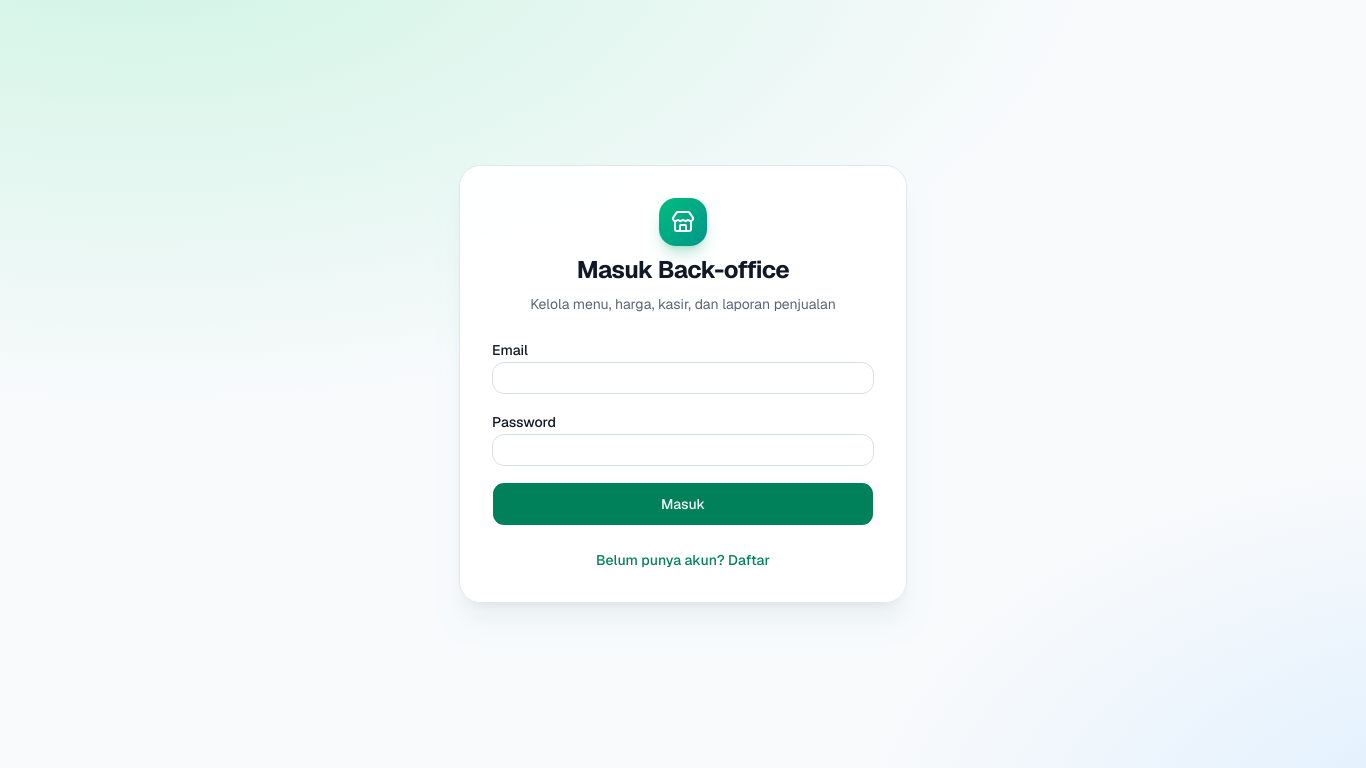
LoginScreen › explains wrong credentials
In the field labelled "Email": [683, 378] box [492,362,874,394], type "budi@maharasa.id"
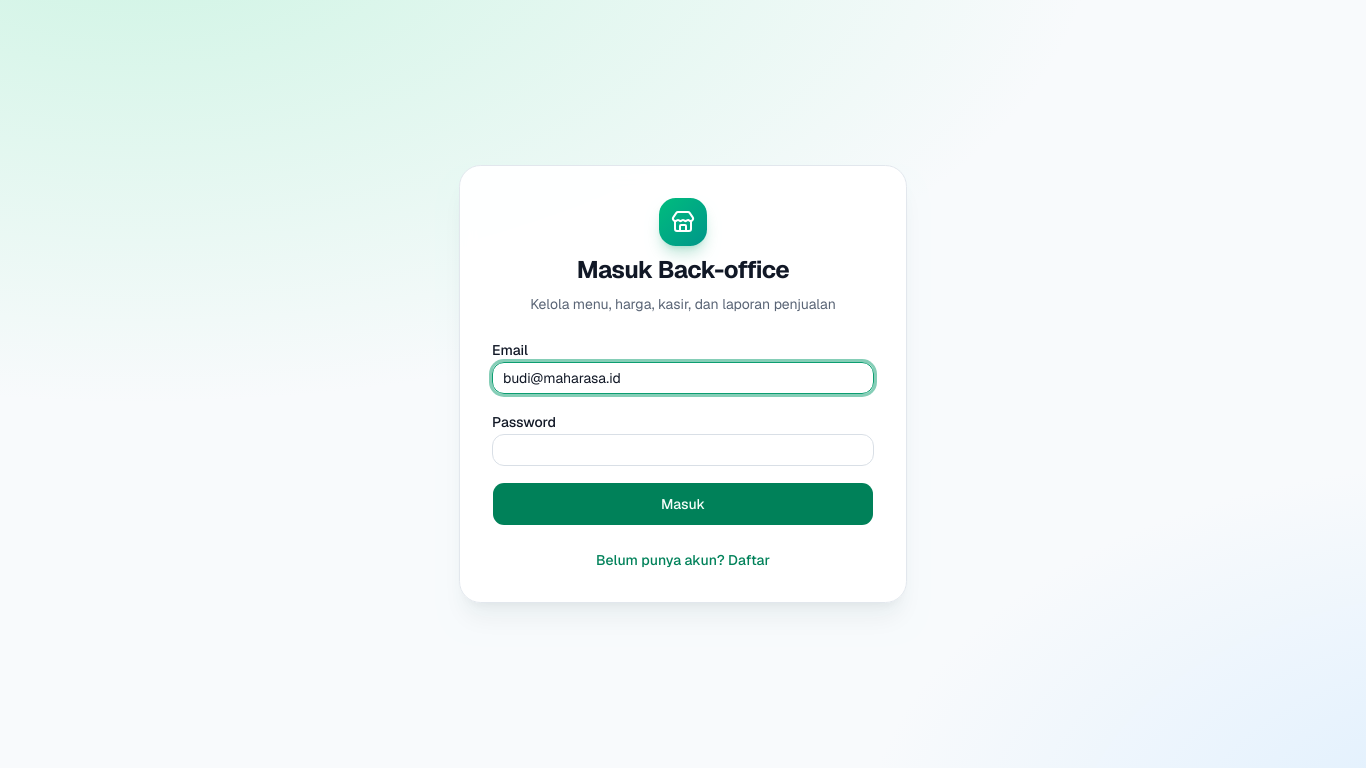
In the password field labelled "Password": [683, 450] box [492,434,874,466], type "salah"
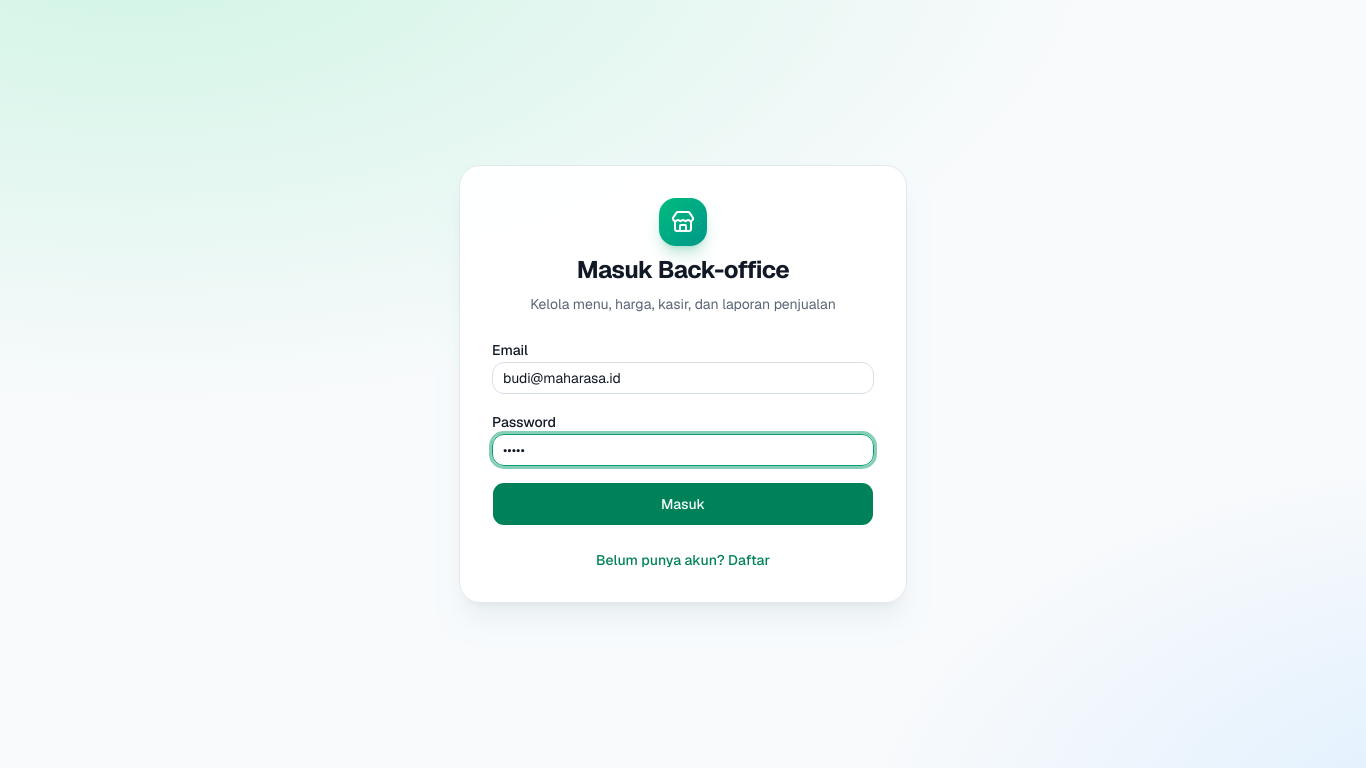
Click the button "Masuk": [683, 504] box [492,482,874,526]
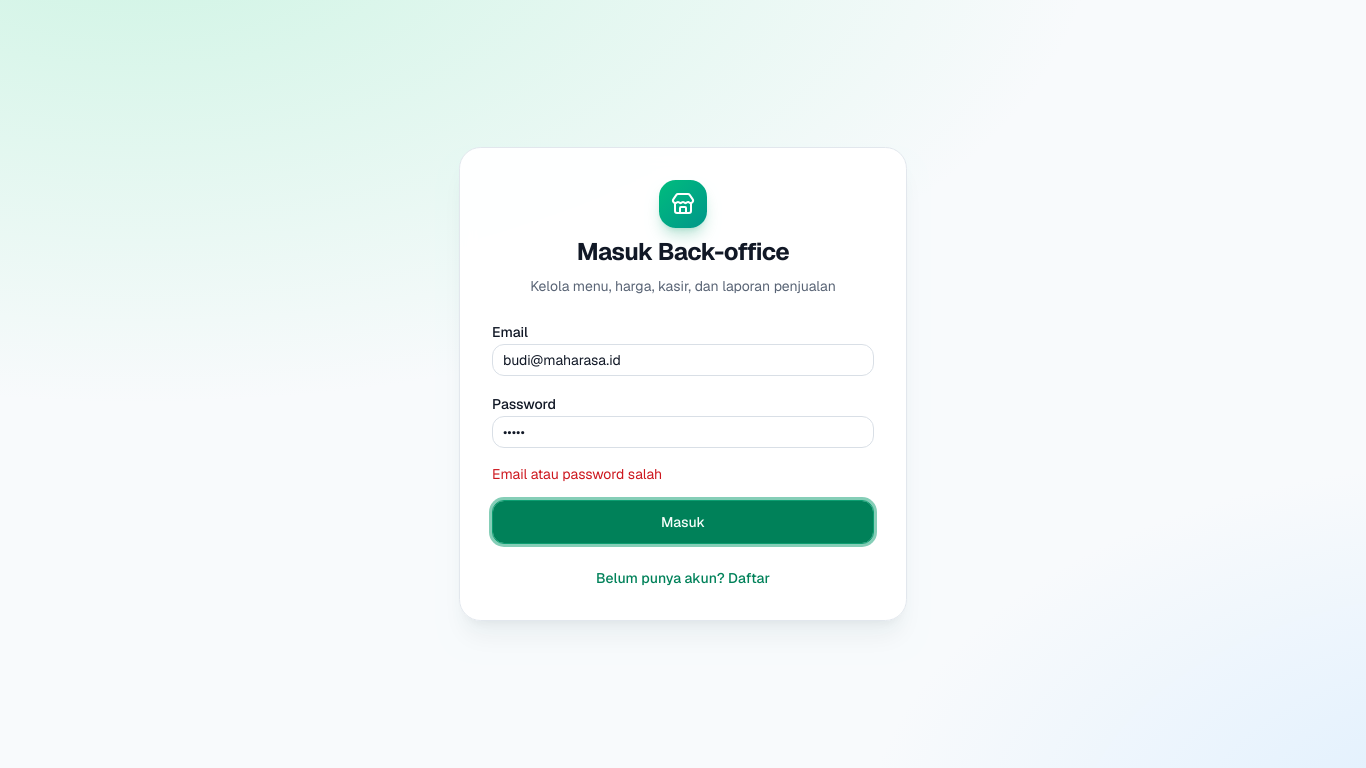
Now the message reads "Email atau password salah", box [492,465,662,483]
